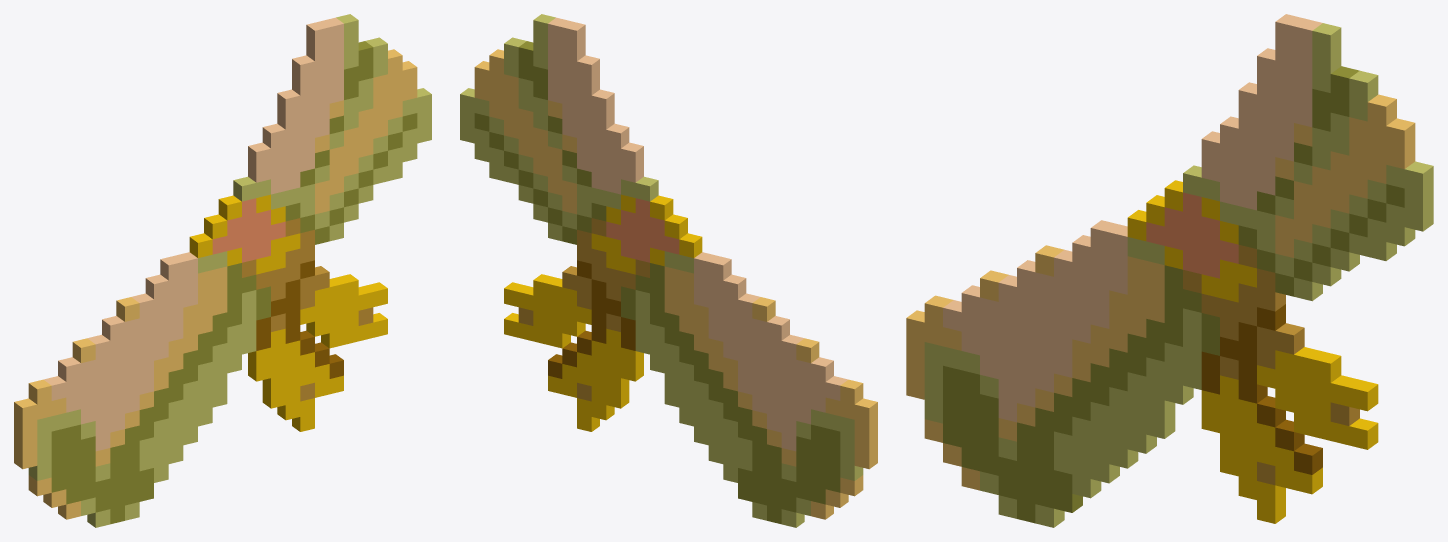
File: I_Scroll03.fbx
3 renders of one model, left to right at view 1: azimuth 30°, elevation 25°; view 2: azimuth 150°, elevation 25°; view 3: azimuth 330°, elevation 25°, orthographic. The views are drawn at different scales.
Visible parts, largest first — view 1: Default; view 2: Default; view 3: Default.
Part boxes in pixels (left/top/right/bottom): Default: left=14, top=14, right=431, bottom=527; Default: left=460, top=14, right=877, bottom=527; Default: left=906, top=14, right=1433, bottom=527.
Size of the model in its own units: 28 by 29 by 1.
Materials: 1 (1 with a texture image).
